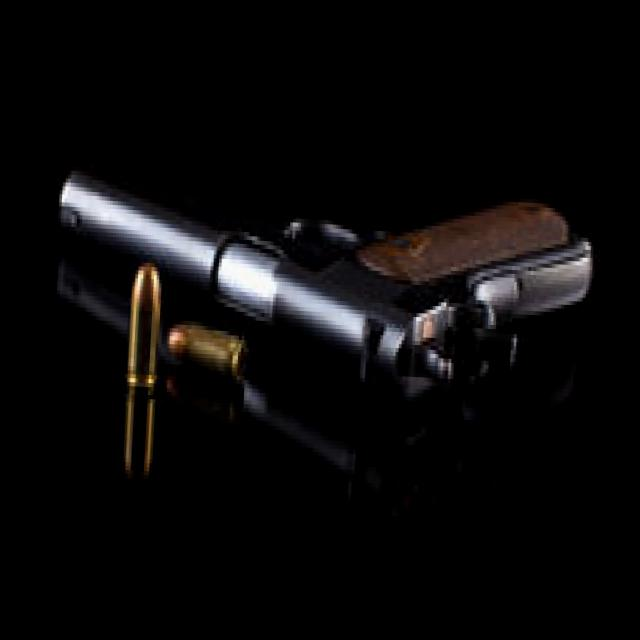handgun: (45, 162, 600, 410)
